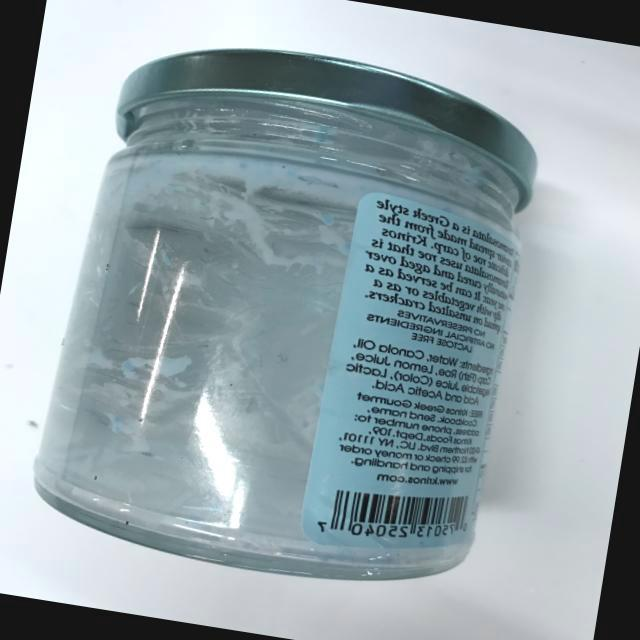glass: (1, 6, 572, 620)
